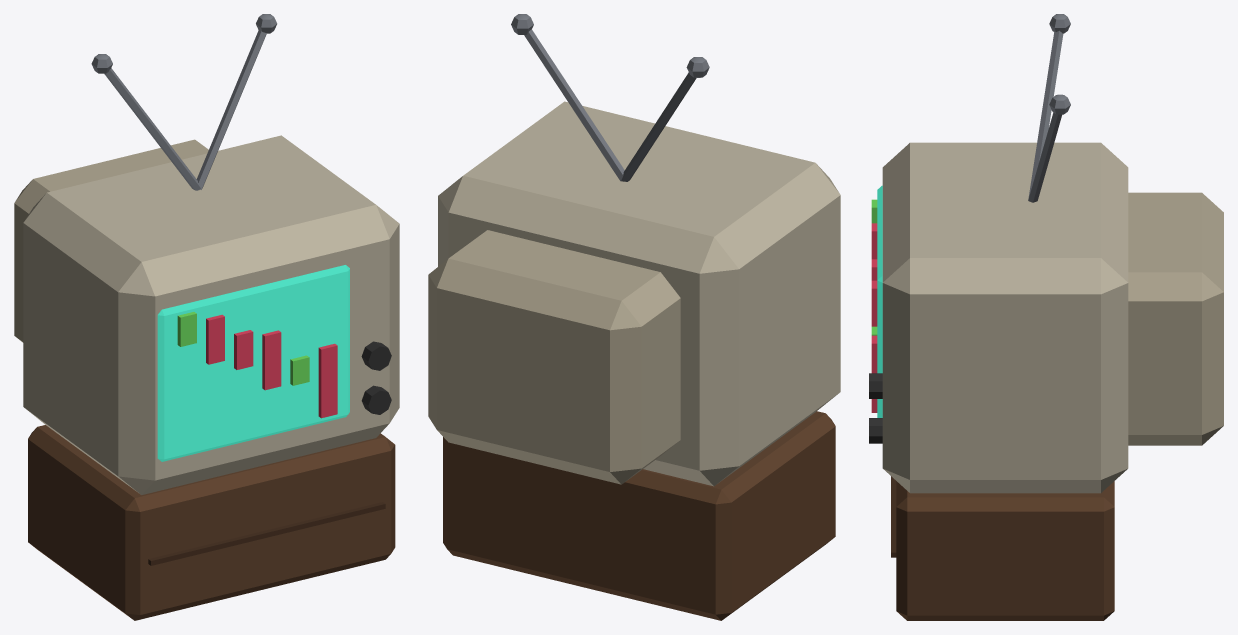
File: crt_tv.glb
3 renders of one model, left to right at view 1: azimuth 30°, elevation 25°; view 2: azimuth 150°, elevation 25°; view 3: azimuth 270°, elevation 25°, orthographic. The views are drawn at different scales.
Visible parts, largest first — view 1: body, fx_glow_screen; view 2: body; view 3: body, fx_glow_screen.
Boxes of the visible parts, left/top/right/bottom form: body: left=14, top=14, right=399, bottom=620; fx_glow_screen: left=157, top=265, right=349, bottom=461; body: left=428, top=14, right=840, bottom=620; body: left=869, top=14, right=1223, bottom=620; fx_glow_screen: left=877, top=185, right=882, bottom=417.
Bounding box in the file's own units: 1.2 × 2.04 × 1.3.
